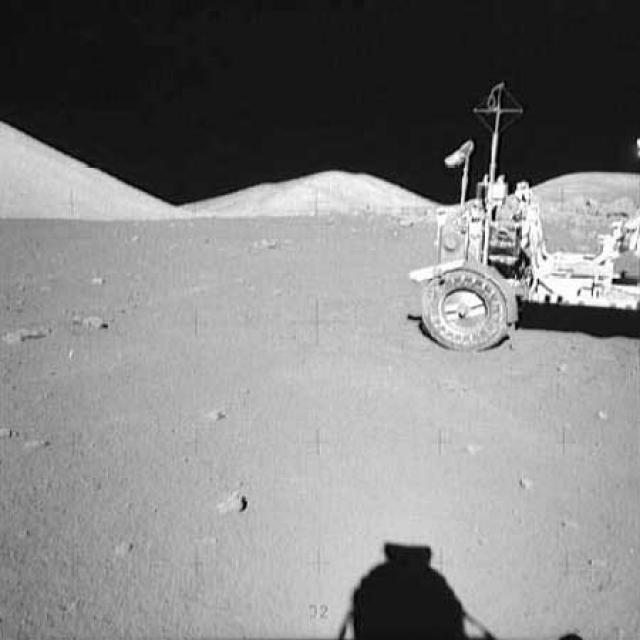artifact: (408, 73, 639, 357)
rock: (0, 322, 56, 351), (212, 490, 253, 516), (70, 308, 110, 334), (21, 434, 51, 455)
